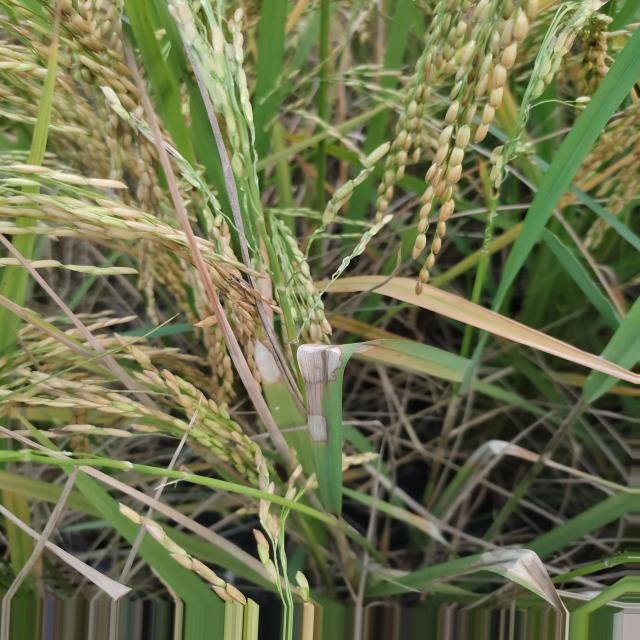Leaf_Blast: (373, 278, 640, 384), (327, 275, 387, 292)
Rice False Smut: (472, 549, 568, 622), (297, 344, 342, 444), (255, 340, 282, 384)
